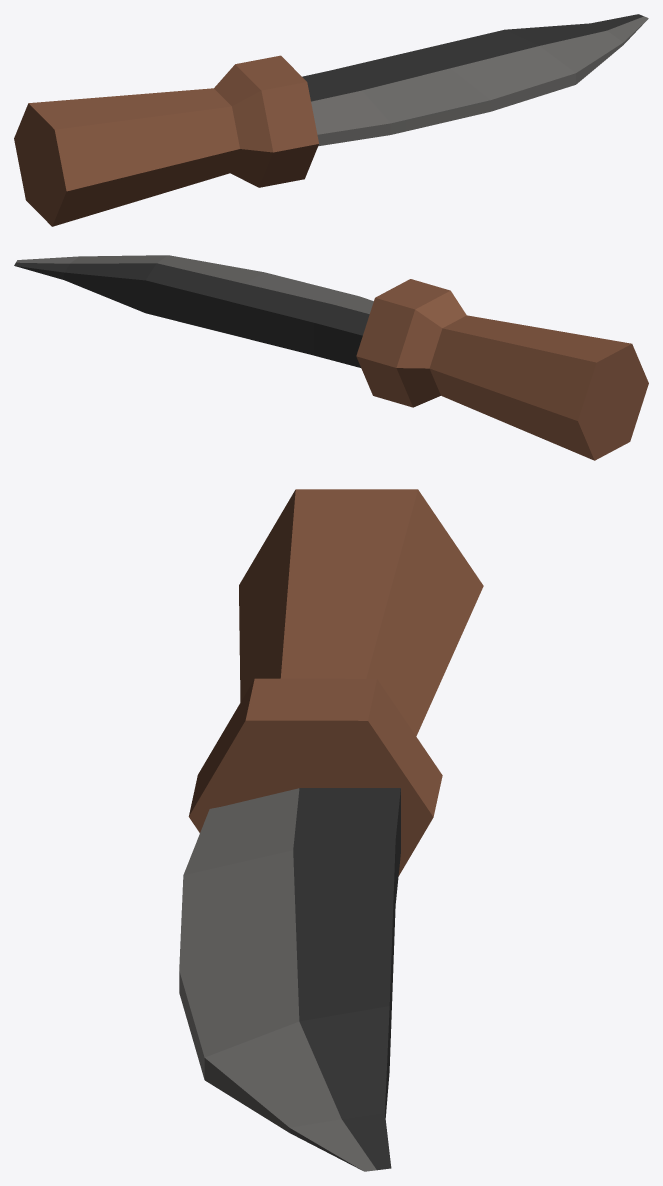
File: knife.fbx
3 renders of one model, top to bottom at view 1: azimuth 30°, elevation 25°; view 2: azimuth 150°, elevation 25°; view 3: azimuth 270°, elevation 25°, orthographic. The views are drawn at different scales.
Visible parts, largest first — view 1: knife; view 2: knife; view 3: knife.
Part boxes in pixels (x1=…): knife: x1=14, y1=14, x2=648, y2=226; knife: x1=14, y1=255, x2=648, y2=460; knife: x1=179, y1=489, x2=483, y2=1171.
Size of the model in its own units: 20.54 by 3.28 by 4.51.
